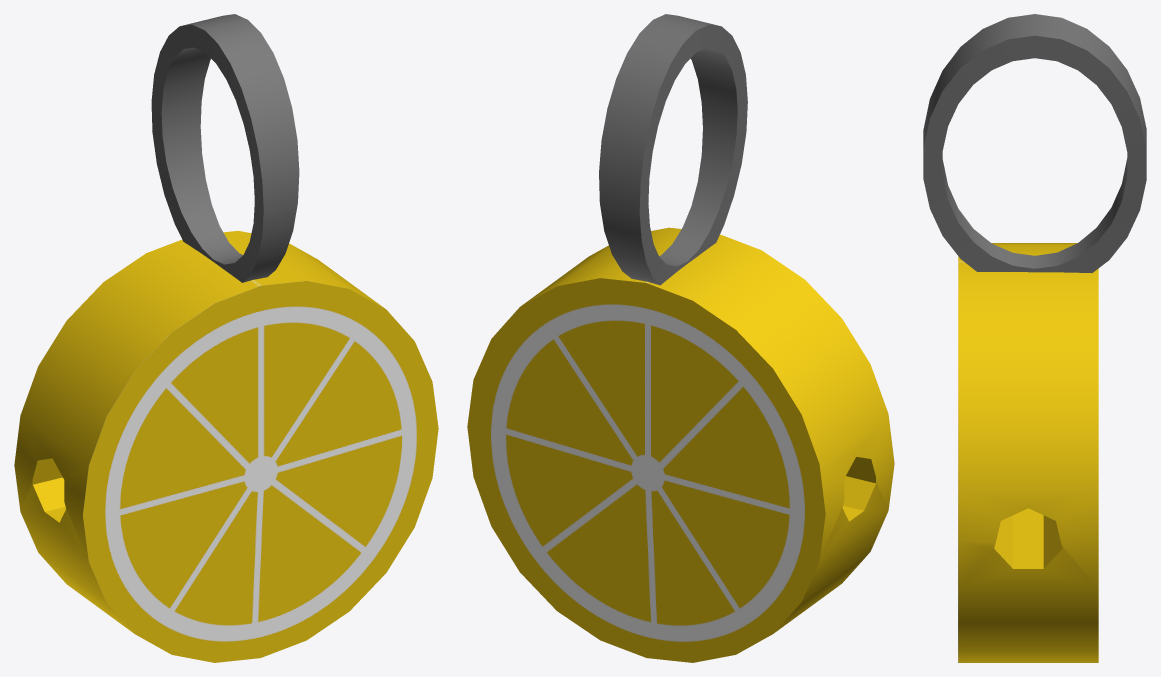
The model's file is Lemon.fbx.
The picture shows the model from 3 angles, left to right: view 1: azimuth 30°, elevation 25°; view 2: azimuth 150°, elevation 25°; view 3: azimuth 270°, elevation 25°; orthographic projection. The views are drawn at different scales.
Parts seen in each view (by area): view 1: Cylinder.005, Cylinder.008; view 2: Cylinder.005, Cylinder.008; view 3: Cylinder.005, Cylinder.008.
Boxes of the visible parts, x1,y1,x2,y2 form: Cylinder.005: (14, 230, 438, 662); Cylinder.008: (151, 14, 299, 282); Cylinder.005: (467, 227, 894, 662); Cylinder.008: (599, 14, 747, 285); Cylinder.005: (958, 243, 1098, 662); Cylinder.008: (923, 14, 1146, 272).
Bounding box in the file's own units: 19.36 × 31.45 × 10.25.
